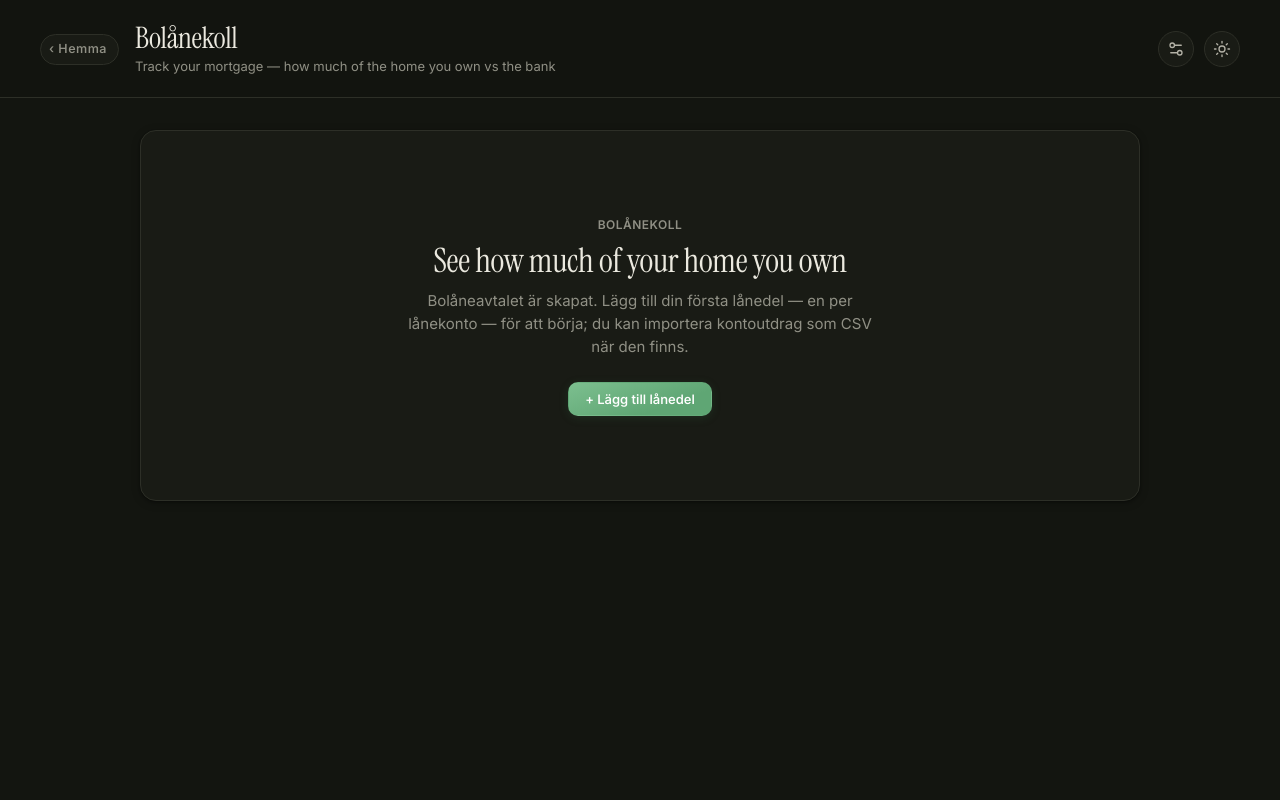
Test case: Bolanekoll — save failures surface to the user (regression for audit H2 / PR #237) › shows an error toast and keeps the dialog open when addLoanPart rejects
Click the button "+ Lägg till lånedel": (640, 398) [568,382,712,416]
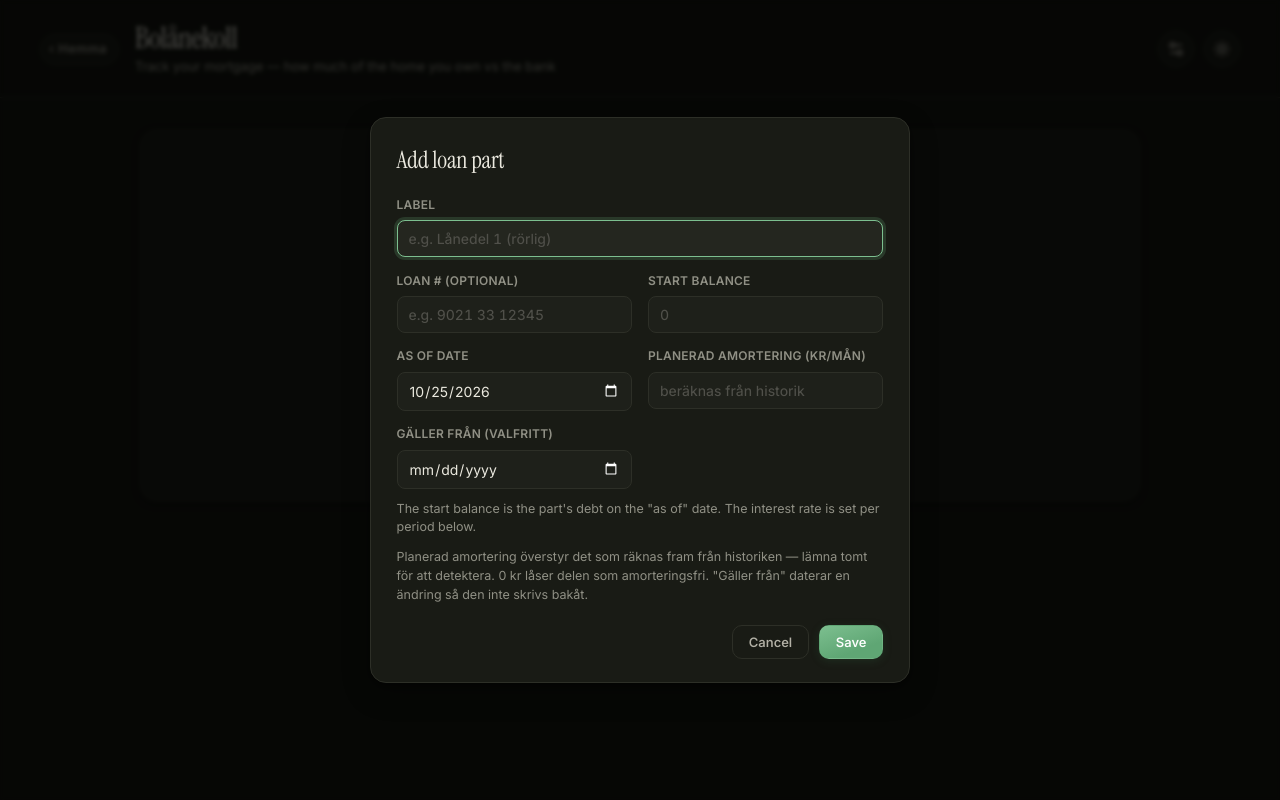
# Fill the label so the dialog has data that must NOT be lost on failure.
In the field with placeholder "e.g. Lånedel 1 (rörlig)": (640, 239) [397,220,883,257], type "Lånedel 1"
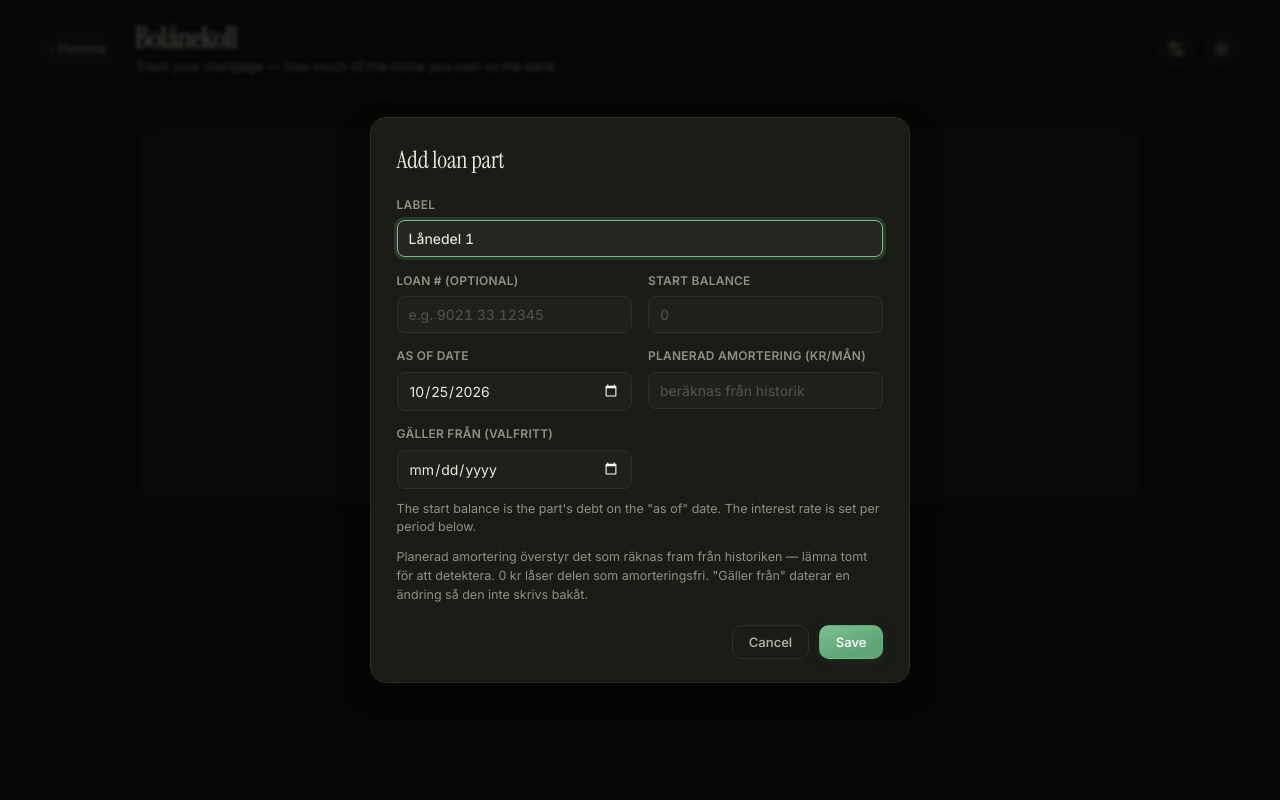
Click the button "Save": (851, 642) [819,625,883,659]
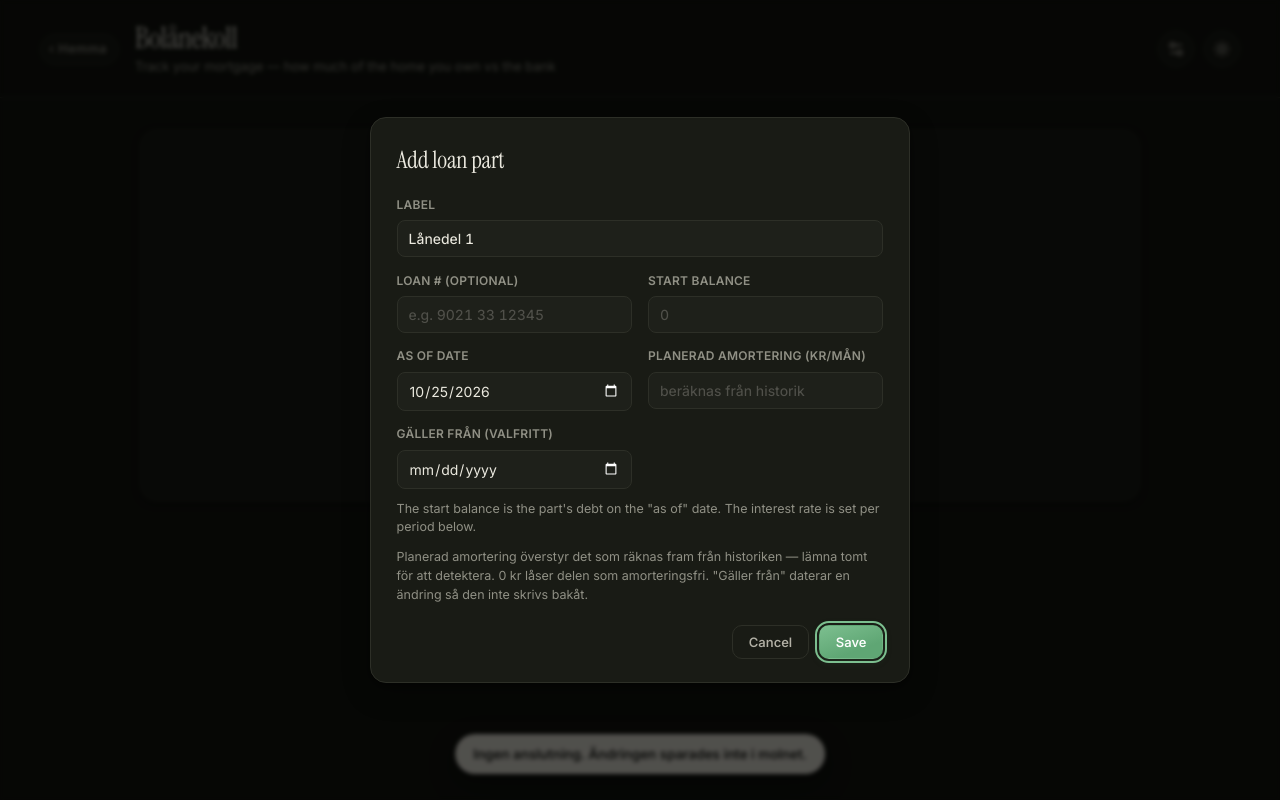
expect the text "Ingen anslutning. Ändringen sparades inte i molnet." is shown: met, box [455,734,825,774]
